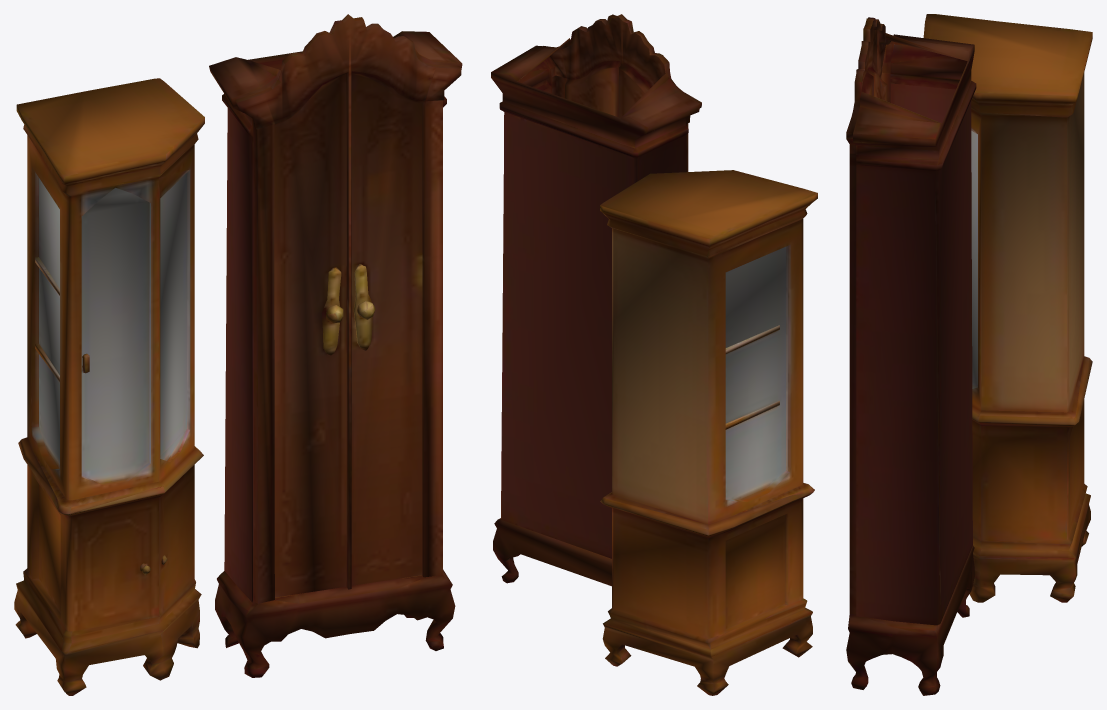
The model's file is wyn_furn_display_cabinet.glb.
The picture shows the model from 3 angles, left to right: view 1: azimuth 30°, elevation 25°; view 2: azimuth 150°, elevation 25°; view 3: azimuth 270°, elevation 25°; orthographic projection. The views are drawn at different scales.
Visible parts, largest first — view 1: tripo_node_b219675b-55ca-494e-b749-490e0479764f; view 2: tripo_node_b219675b-55ca-494e-b749-490e0479764f; view 3: tripo_node_b219675b-55ca-494e-b749-490e0479764f.
Boxes of the visible parts, x1,y1,x2,y2 form: tripo_node_b219675b-55ca-494e-b749-490e0479764f: (14, 14, 462, 695); tripo_node_b219675b-55ca-494e-b749-490e0479764f: (491, 14, 817, 695); tripo_node_b219675b-55ca-494e-b749-490e0479764f: (846, 14, 1092, 695).
Bounding box in the file's own units: 1.19 × 2 × 0.711.
1 material, 1 textured.
